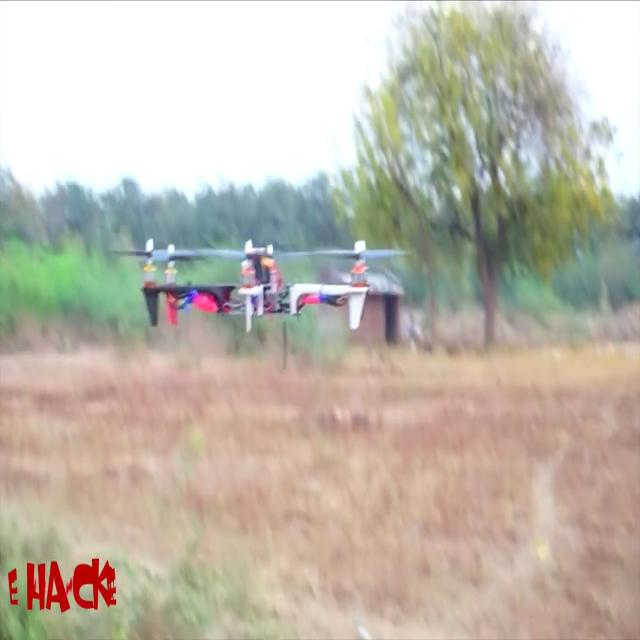drone: (107, 217, 455, 352)
